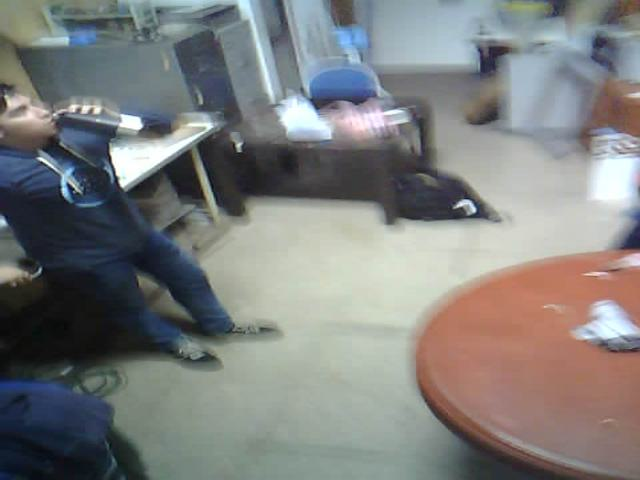person: (0, 63, 307, 374)
